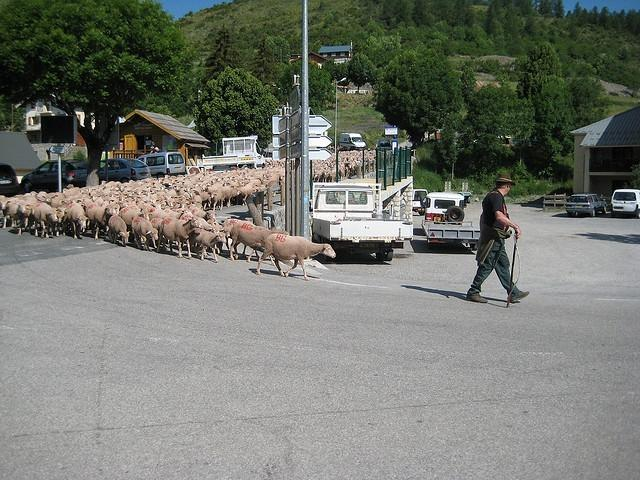car: (22, 159, 88, 193), (424, 192, 464, 222), (565, 192, 609, 218), (138, 151, 186, 174), (100, 160, 150, 178), (611, 189, 640, 218), (0, 163, 19, 196), (411, 188, 430, 216), (374, 139, 392, 151)
truck: (310, 183, 414, 262), (339, 133, 366, 151)
